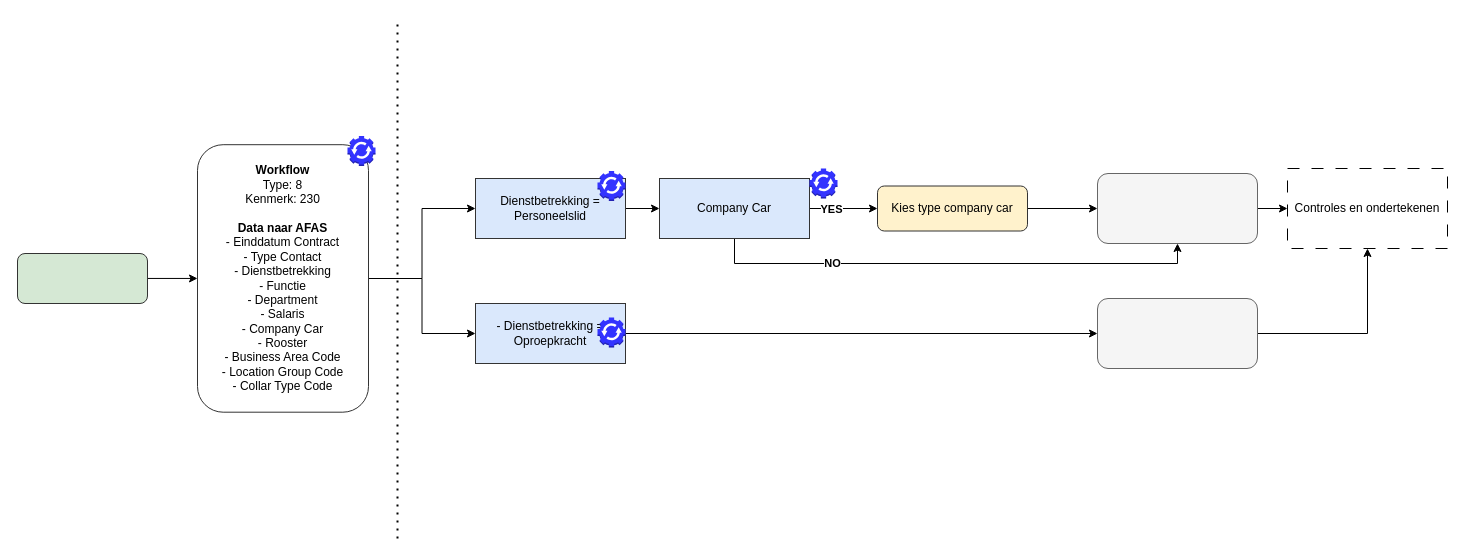
The diagram is 1465 pixels wide and 557 high, and some of its shapes have lost their labels. Here are the shapes that lost their labels. From the top down, the centre of each, then its label:
At point (1177, 208): "Volvo AOK".
At point (82, 278): "Medewerker contract verlengd".
At point (1177, 333): "Oproepovereenkomst".
